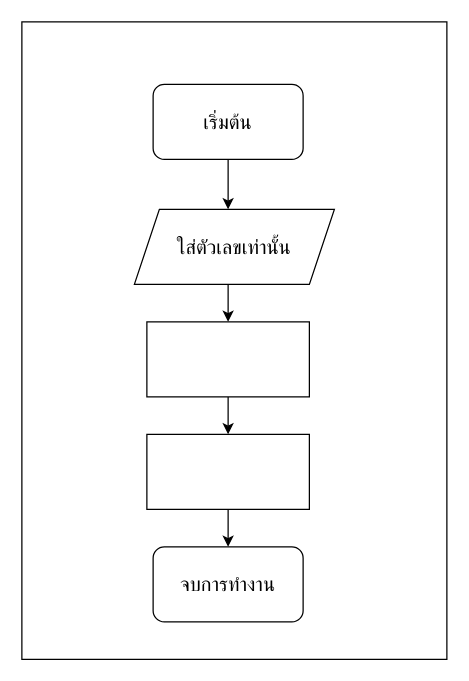
The diagram is 469 pixels wide and 681 high, and some of its shapes have lost their labels. Here are the shapes that lost their labels. From the top down, the centre of each, then its label:
At point 227,359: "ประมวลผล".
At point 227,471: "ผลค่าน้ำ".
